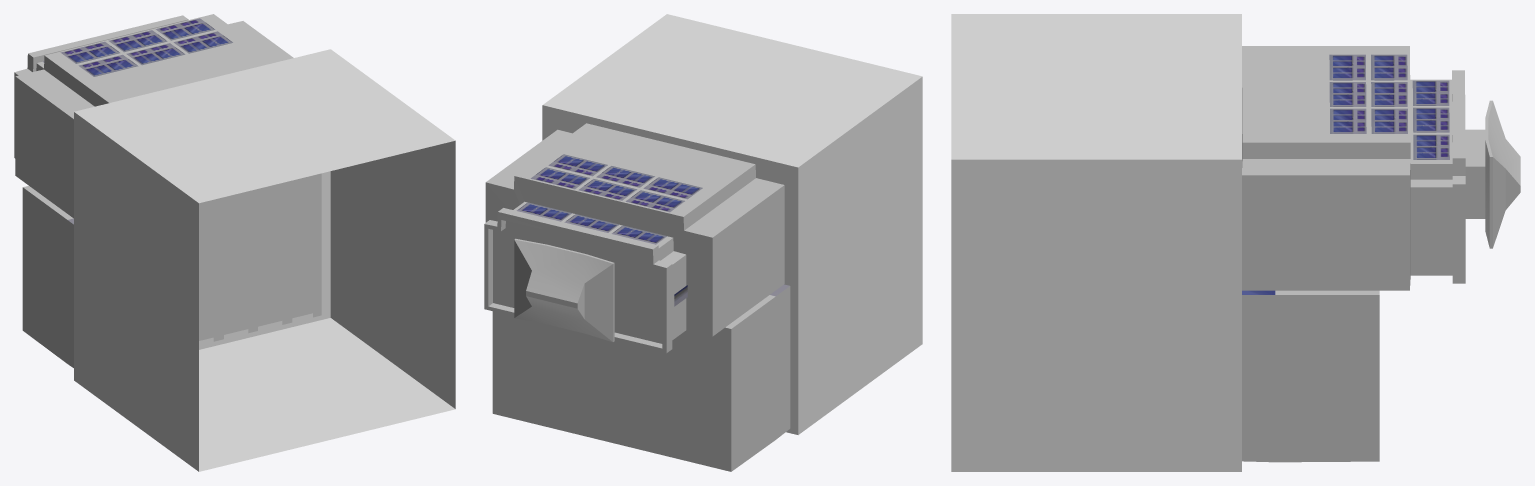
The model's file is block_fat_01.FBX.
The picture shows the model from 3 angles, left to right: view 1: azimuth 30°, elevation 25°; view 2: azimuth 150°, elevation 25°; view 3: azimuth 270°, elevation 25°; orthographic projection. The views are drawn at different scales.
Visible parts, largest first — view 1: Plane004, building_commercial_3s, building_neonepali_6s; view 2: Plane004, building_neonepali_6s, building_commercial_3s; view 3: Plane004, building_neonepali_6s, building_commercial_3s.
Boxes of the visible parts, left/top/right/bottom form: Plane004: left=74, top=49, right=455, bottom=471; building_commercial_3s: left=22, top=173, right=321, bottom=367; building_neonepali_6s: left=14, top=14, right=293, bottom=218; Plane004: left=542, top=14, right=922, bottom=434; building_neonepali_6s: left=484, top=123, right=784, bottom=353; building_commercial_3s: left=492, top=284, right=790, bottom=471; Plane004: left=951, top=14, right=1241, bottom=471; building_neonepali_6s: left=1242, top=46, right=1520, bottom=290; building_commercial_3s: left=1242, top=290, right=1379, bottom=462.
Bounding box in the file's own units: 30 × 30 × 49.58.
